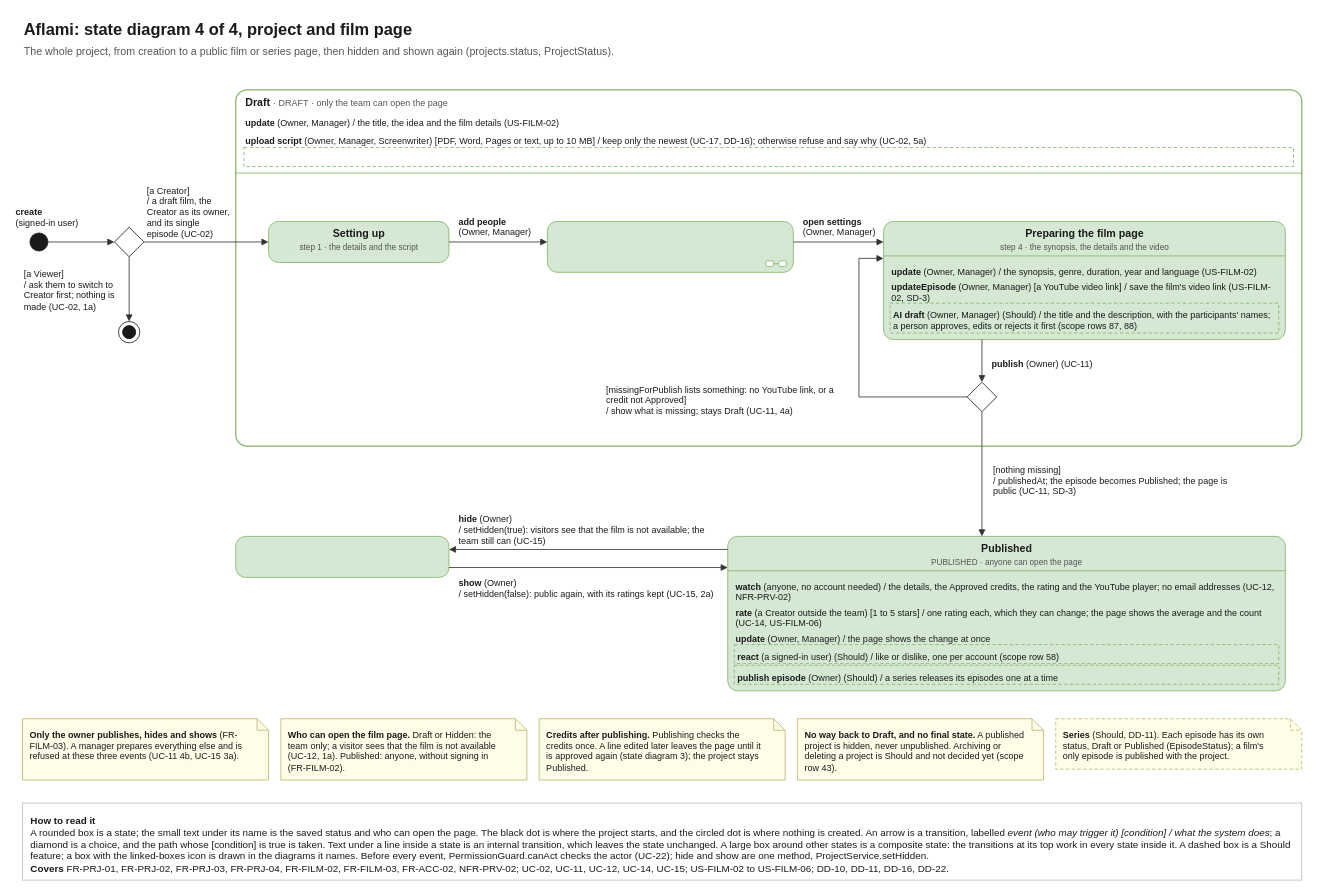
Some shapes in this 1317 by 895 pixel diagram are drawn without their labels. Each missing label, with the centre of its shape:
"film or series (Owner) (Should) / a series has seasons and episodes (FR-PRJ-03)" belongs at pixel 768 157.
"Hidden HIDDEN · only the team can open it" belongs at pixel 342 556.
"Team, work and credits steps 2 to 4 · state diagrams 1, 2 and 3" belongs at pixel 670 246.
